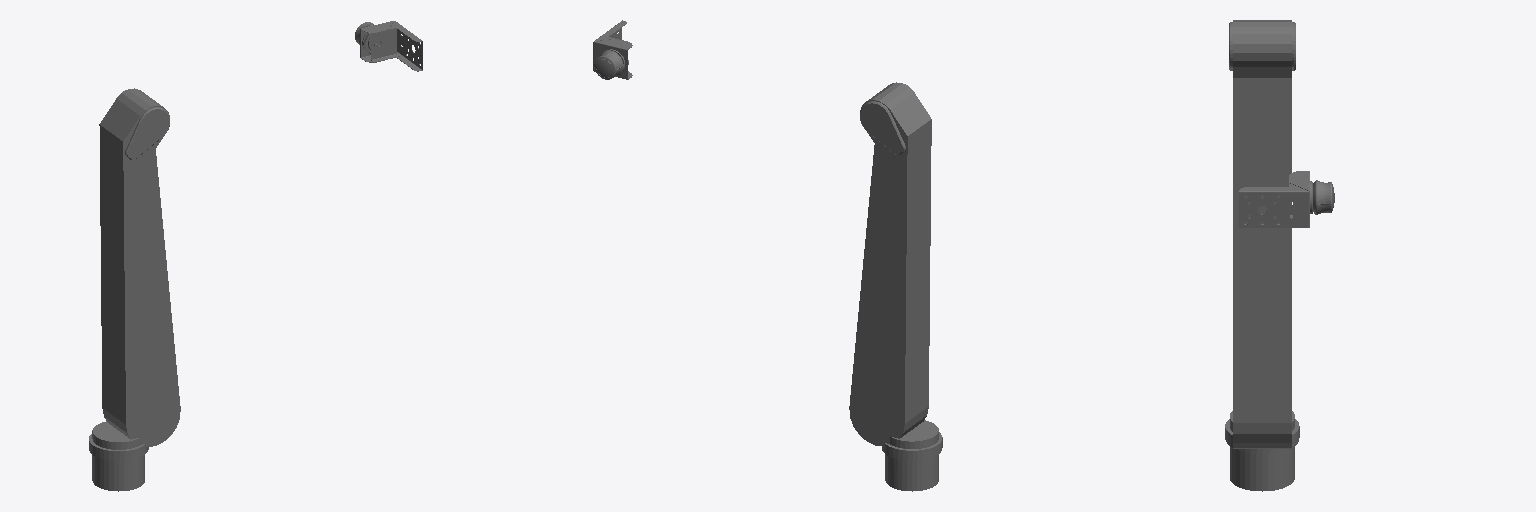
The robot description file, URDF, robot "matilda_support":
<?xml version="1.0" ?>
<!-- =================================================================================== -->
<!-- |    This document was autogenerated by xacro from matilda.xacro                  | -->
<!-- |    EDITING THIS FILE BY HAND IS NOT RECOMMENDED                                 | -->
<!-- =================================================================================== -->
<robot name="matilda_support" xmlns:xacro="http://ros.org/wiki/xacro">
  <!-- link list -->
  <link name="base_link">
    <visual>
      <origin rpy="0 0 0" xyz="0 0 0"/>
      <geometry>
        <mesh filename="package://matilda_support/meshes/base_link.STL"/>
      </geometry>
      <material name="matilda_grey">
        <color rgba="0.5 0.5 0.5 1"/>
      </material>
    </visual>
    <collision>
      <geometry>
        <mesh filename="package://matilda_support/meshes/base_link.STL"/>
      </geometry>
      <material name="red">
        <color rgba="1 0 0 1"/>
      </material>
    </collision>
  </link>
  <link name="link_1">
    <visual>
      <origin rpy="0 0 0" xyz="0 0 0"/>
      <geometry>
        <mesh filename="package://matilda_support/meshes/link_1.STL"/>
      </geometry>
      <material name="matilda_grey">
        <color rgba="0.5 0.5 0.5 1"/>
      </material>
    </visual>
    <collision>
      <geometry>
        <mesh filename="package://matilda_support/meshes/link_1.STL"/>
      </geometry>
      <material name="red">
        <color rgba="1 0 0 1"/>
      </material>
    </collision>
  </link>
  <link name="link_2">
    <visual>
      <origin rpy="0 0 0" xyz="0 0 0"/>
      <geometry>
        <mesh filename="package://matilda_support/meshes/link_2.STL"/>
      </geometry>
      <material name="matilda_grey">
        <color rgba="0.5 0.5 0.5 1"/>
      </material>
    </visual>
    <collision>
      <geometry>
        <mesh filename="package://matilda_support/meshes/link_2.STL"/>
      </geometry>
      <material name="red">
        <color rgba="1 0 0 1"/>
      </material>
    </collision>
  </link>
  <link name="link_3">
    <visual>
      <origin rpy="0 0 0" xyz="0 0 0"/>
      <geometry>
        <mesh filename="package://matilda_support/meshes/link_3.STL"/>
      </geometry>
      <material name="matilda_grey">
        <color rgba="0.5 0.5 0.5 1"/>
      </material>
    </visual>
    <collision>
      <geometry>
        <mesh filename="package://matilda_support/meshes/link_3.STL"/>
      </geometry>
      <material name="red">
        <color rgba="1 0 0 1"/>
      </material>
    </collision>
  </link>
  <link name="link_4">
    <visual>
      <origin rpy="0 0 0" xyz="0 0 0"/>
      <geometry>
        <mesh filename="package://matilda_support/meshes/link_4.STL"/>
      </geometry>
      <material name="matilda_grey">
        <color rgba="0.5 0.5 0.5 1"/>
      </material>
    </visual>
    <collision>
      <geometry>
        <mesh filename="package://matilda_support/meshes/link_4.STL"/>
      </geometry>
      <material name="red">
        <color rgba="1 0 0 1"/>
      </material>
    </collision>
  </link>
  <link name="link_5">
    <visual>
      <origin rpy="0 0 0" xyz="0 0 0"/>
      <geometry>
        <mesh filename="package://matilda_support/meshes/link_5.STL"/>
      </geometry>
      <material name="matilda_grey">
        <color rgba="0.5 0.5 0.5 1"/>
      </material>
    </visual>
    <collision>
      <geometry>
        <mesh filename="package://matilda_support/meshes/link_5.STL"/>
      </geometry>
      <material name="red">
        <color rgba="1 0 0 1"/>
      </material>
    </collision>
  </link>
  <link name="tool0"/>
  <!-- end of link list -->
  <!-- joint list -->
  <joint name="joint_1" type="revolute">
    <origin rpy="0 0 0" xyz="0 0 0.037"/>
    <parent link="base_link"/>
    <child link="link_1"/>
    <axis xyz="0 0 -1"/>
    <limit effort="0" lower="-2" upper="2" velocity="1.57079632679"/>
  </joint>
  <joint name="joint_2" type="revolute">
    <origin rpy="0 0 0" xyz="0.05 0 0.1"/>
    <parent link="link_1"/>
    <child link="link_2"/>
    <axis xyz="0 1 0"/>
    <limit effort="0" lower="-0.75" upper="2.5" velocity="1.57079632679"/>
  </joint>
  <joint name="joint_3" type="revolute">
    <origin rpy="0 0 0" xyz="0 0 0.615"/>
    <parent link="link_2"/>
    <child link="link_3"/>
    <axis xyz="0 -1 0"/>
    <limit effort="0" lower="-1.4" upper="1.57079632679" velocity="1.57079632679"/>
  </joint>
  <joint name="joint_4" type="revolute">
    <origin rpy="0 0 0" xyz="0.18 0 0.027015"/>
    <parent link="link_3"/>
    <child link="link_4"/>
    <axis xyz="0.99737 0 -0.072536"/>
    <limit effort="0" lower="-3.2" upper="3.2" velocity="1.57079632679"/>
  </joint>
  <joint name="joint_5" type="revolute">
    <origin rpy="0 0 0" xyz="0.37145 0 -0.0270150"/>
    <parent link="link_4"/>
    <child link="link_5"/>
    <axis xyz="0 1 0"/>
    <limit effort="0" lower="-1.57079632679" upper="1.57079632679" velocity="1.57079632679"/>
  </joint>
  <joint name="joint_5-tool0" type="fixed">
    <parent link="link_5"/>
    <child link="tool0"/>
    <origin rpy="0 1.57079632679 0" xyz="0 0 0"/>
  </joint>
  <!-- end of joint list -->
  <!-- ROS base_link to Matilda World Coordinates transform -->
  <link name="base"/>
  <joint name="base_link-base" type="fixed">
    <origin rpy="0 0 0" xyz="0 0 0"/>
    <parent link="base_link"/>
    <child link="base"/>
  </joint>
</robot>

--- Render facts (derived) ---
The picture shows the robot from 3 angles, left to right: view 1: azimuth 30°, elevation 25°; view 2: azimuth 150°, elevation 25°; view 3: azimuth 270°, elevation 25°; orthographic projection.
Robot: matilda_support — 8 links, 7 joints (5 revolute, 2 fixed); root link base_link; default pose: every joint at zero.
Visible links, largest first — view 1: link_2, base_link, link_5; view 2: link_2, base_link, link_5; view 3: link_2, link_5, base_link.
Link boxes in pixels (<box>): link_2: <box>99,88,180,446</box>; base_link: <box>89,421,148,491</box>; link_5: <box>355,21,422,71</box>; link_2: <box>849,82,931,446</box>; base_link: <box>882,420,942,491</box>; link_5: <box>593,20,632,79</box>; link_2: <box>1229,20,1295,448</box>; link_5: <box>1239,171,1334,227</box>; base_link: <box>1225,411,1299,491</box>.
Bounding box of the posed robot: 0.7032 × 0.1673 × 0.7893 m (x, y, z).
3 mesh visuals loaded from 6 distinct referenced files (3 binary STL); not drawn: 3 (reference not matched to a file when rendering).
